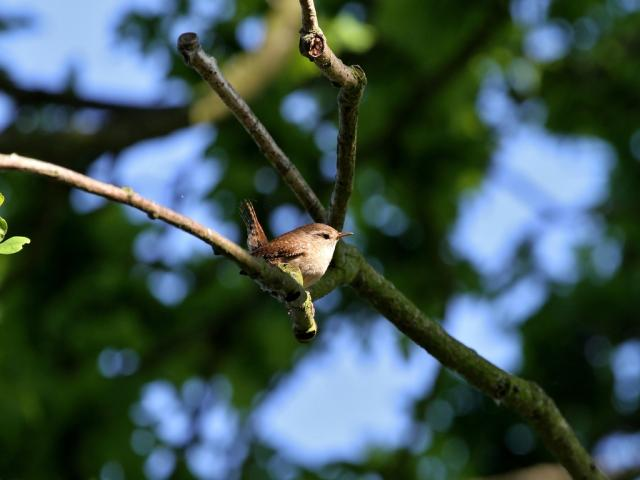Bird: (239, 195, 353, 317)
